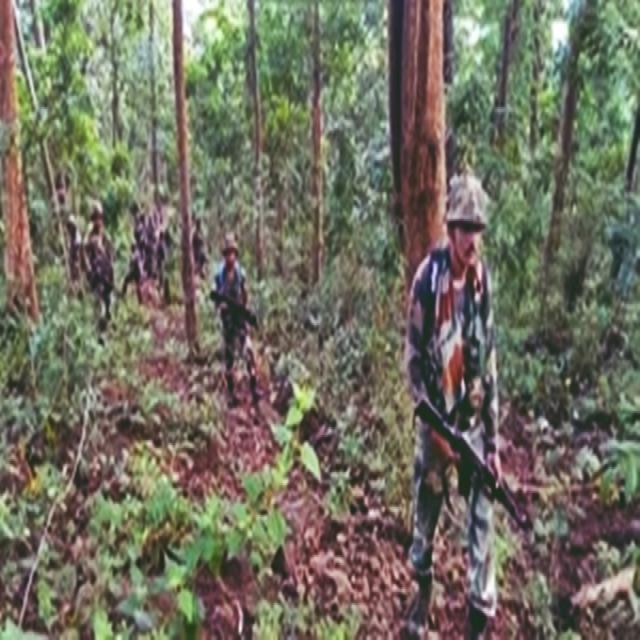Forest: (1, 0, 640, 640)
Militant: (387, 159, 529, 640), (200, 225, 282, 456), (120, 182, 190, 334), (73, 182, 128, 364)
